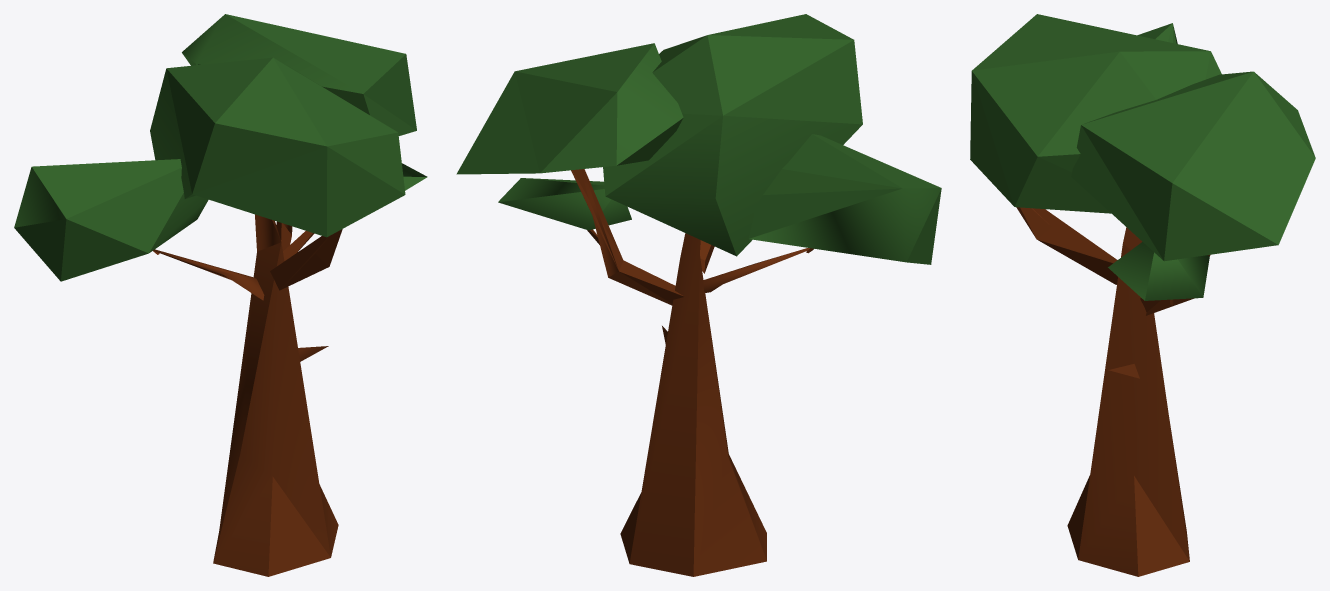
File: Tree1_med.glb
3 renders of one model, left to right at view 1: azimuth 30°, elevation 25°; view 2: azimuth 150°, elevation 25°; view 3: azimuth 270°, elevation 25°, orthographic. The views are drawn at different scales.
Parts seen in each view (by area): view 1: Tree_temp_climate_001; view 2: Tree_temp_climate_001; view 3: Tree_temp_climate_001.
Part boxes in pixels (box(x1,y1,x2,y2)): Tree_temp_climate_001: box(14, 14, 427, 576); Tree_temp_climate_001: box(456, 14, 941, 576); Tree_temp_climate_001: box(970, 14, 1315, 576).
Bounding box in the file's own units: 4.39 × 5.28 × 3.37.
1 material, 1 textured.
